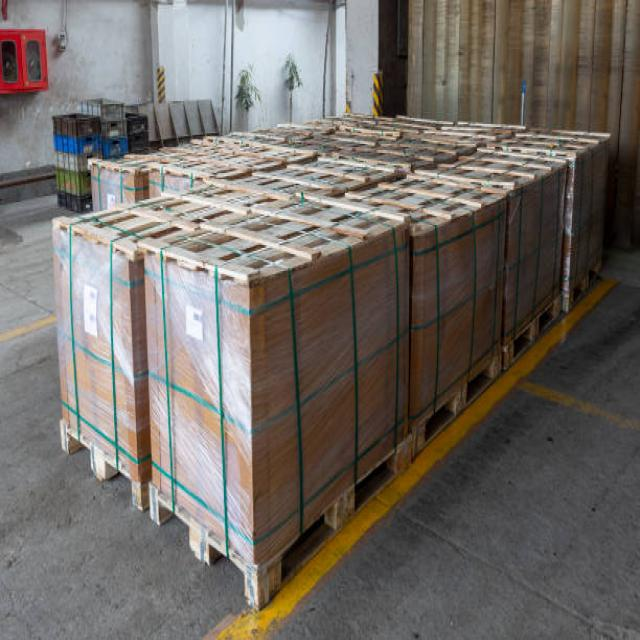Wooden-Pallets: (150, 426, 418, 623), (414, 341, 507, 459), (54, 409, 144, 528), (508, 283, 566, 375)
